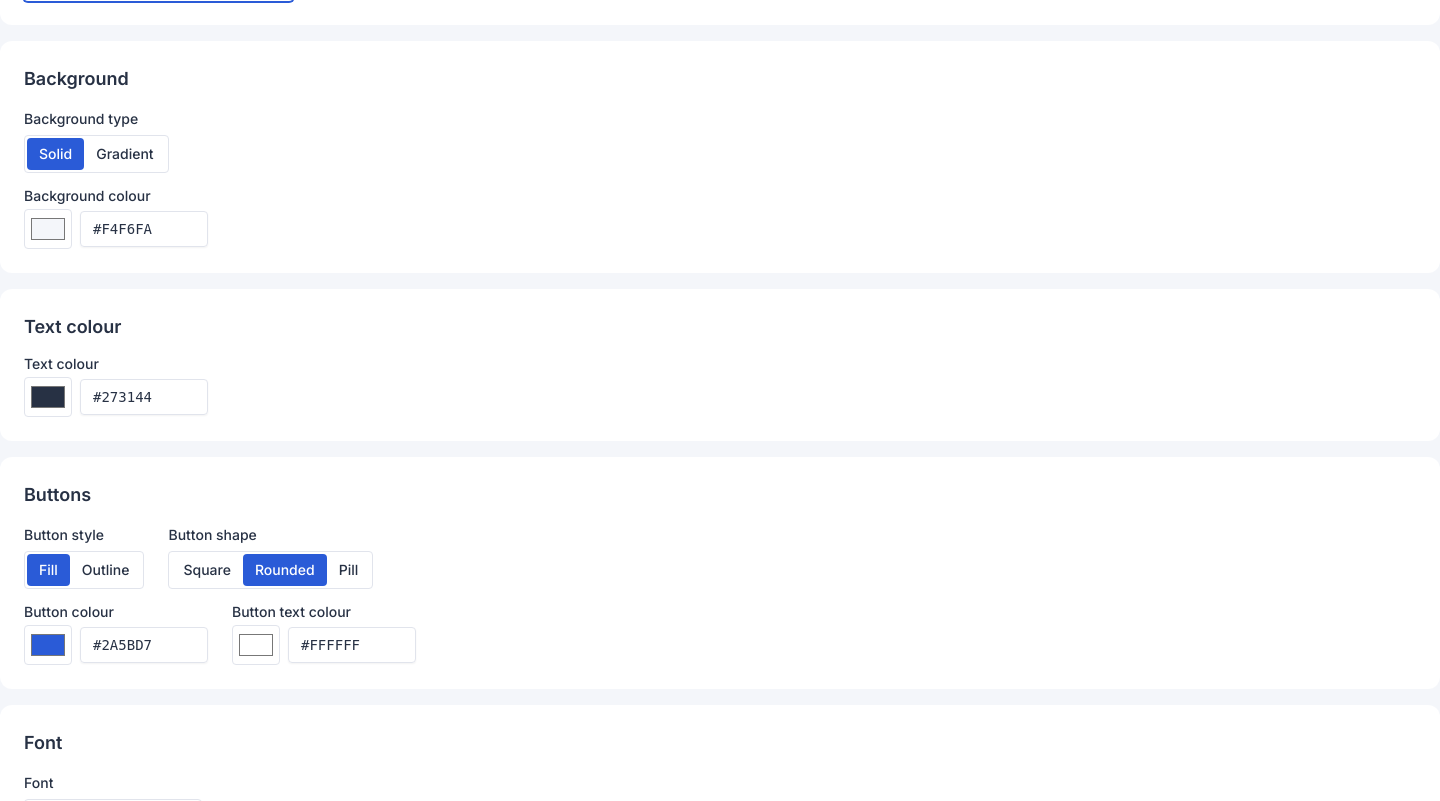
Test case: DesignTab › shows an inline error for an invalid hex and does not send it
The image size is (1440, 801).
(page scrolled)
Replace the text in the field labelled "Text colour" with "#12" at (144, 397), box top-left (80, 379), bottom-right (208, 415)
Wait 1000 ms
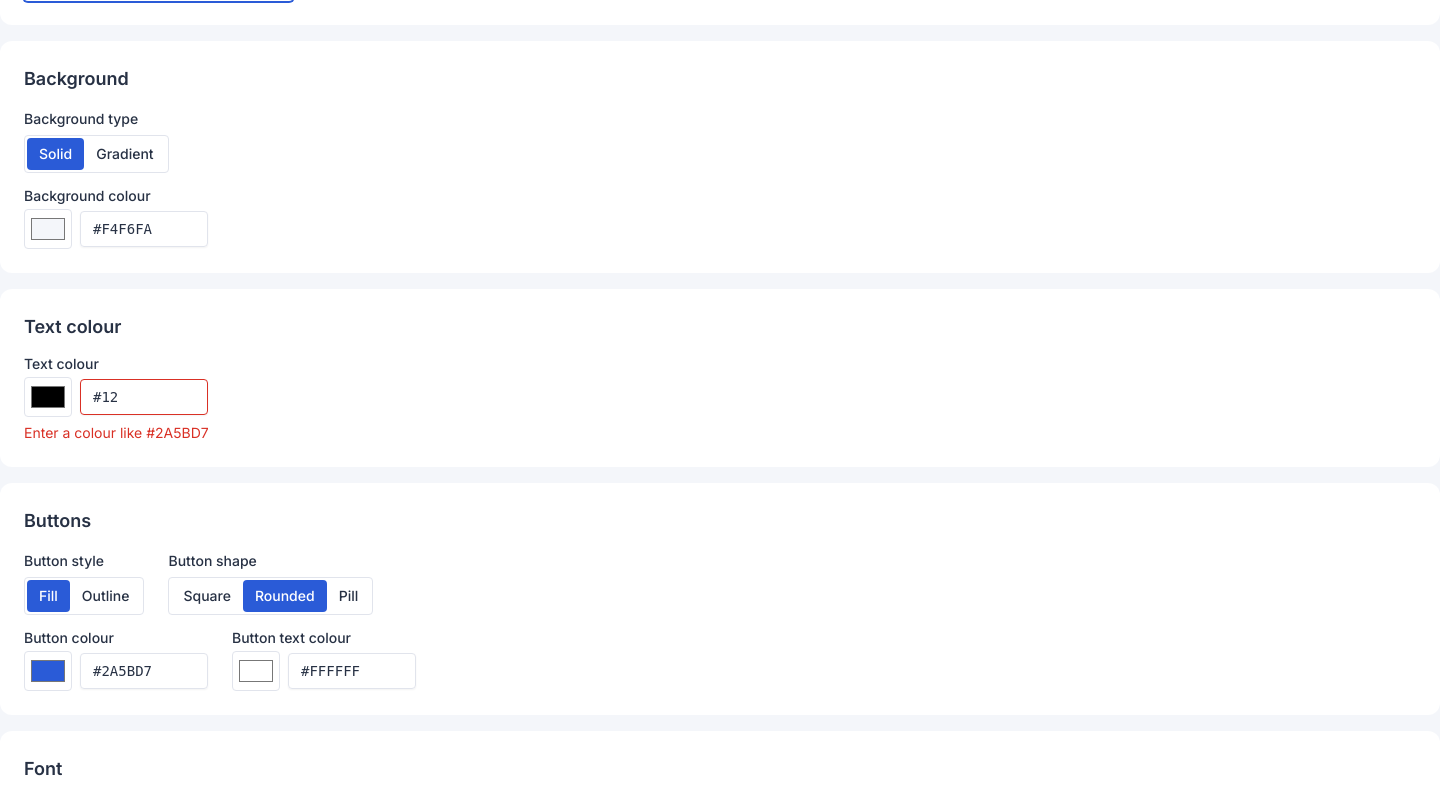
Result: the text "Enter a colour like #2A5BD7" is shown at top-left (24, 424), bottom-right (209, 441)
